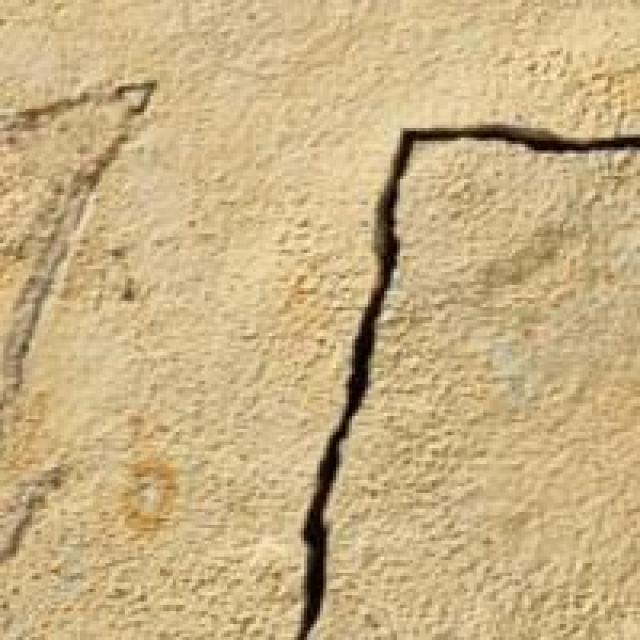crack: (230, 106, 637, 636)
